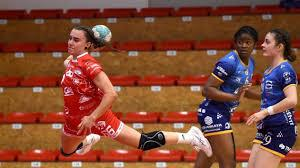ballon_handball: (90, 25, 112, 47)
